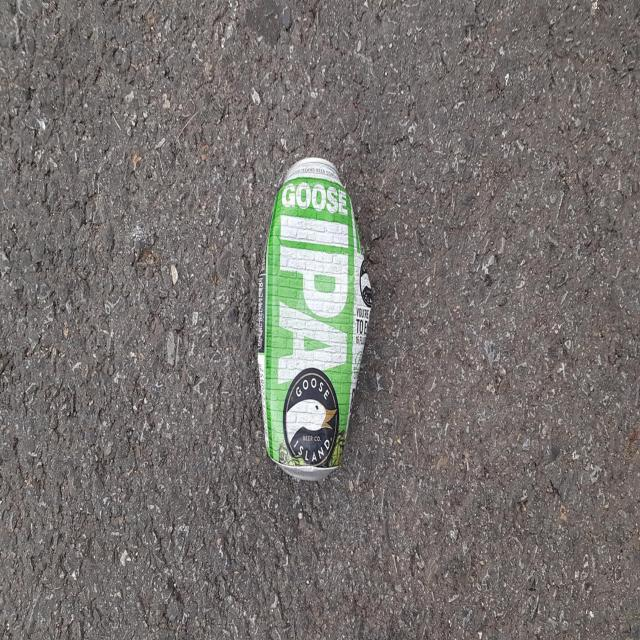can: (258, 156, 372, 480)
